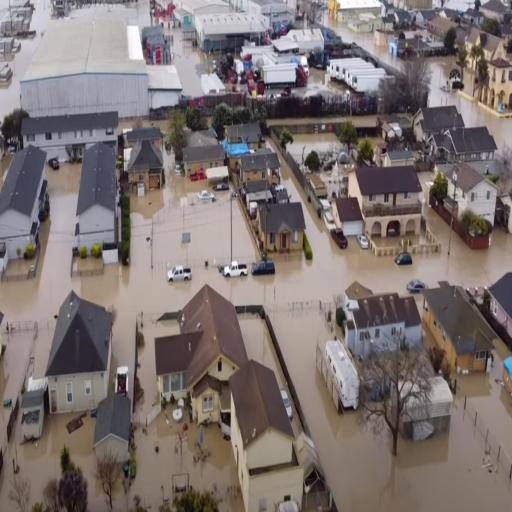flood: (0, 156, 512, 511), (128, 405, 244, 512), (0, 411, 106, 512), (426, 54, 512, 152), (0, 0, 49, 120), (325, 11, 405, 69), (165, 24, 213, 95)
house: (19, 16, 153, 126), (153, 283, 249, 422), (227, 358, 304, 512), (45, 286, 114, 419), (422, 279, 498, 385), (343, 278, 424, 360), (347, 164, 424, 247), (0, 138, 49, 260), (73, 142, 119, 255), (413, 105, 497, 164), (94, 393, 132, 474), (449, 164, 498, 217), (258, 200, 306, 254), (124, 130, 162, 187), (489, 268, 512, 350), (197, 14, 253, 47), (328, 194, 364, 244), (487, 54, 512, 108), (238, 152, 280, 184), (183, 146, 226, 171), (223, 121, 263, 145), (427, 15, 449, 39), (465, 6, 483, 26), (394, 9, 411, 29)
